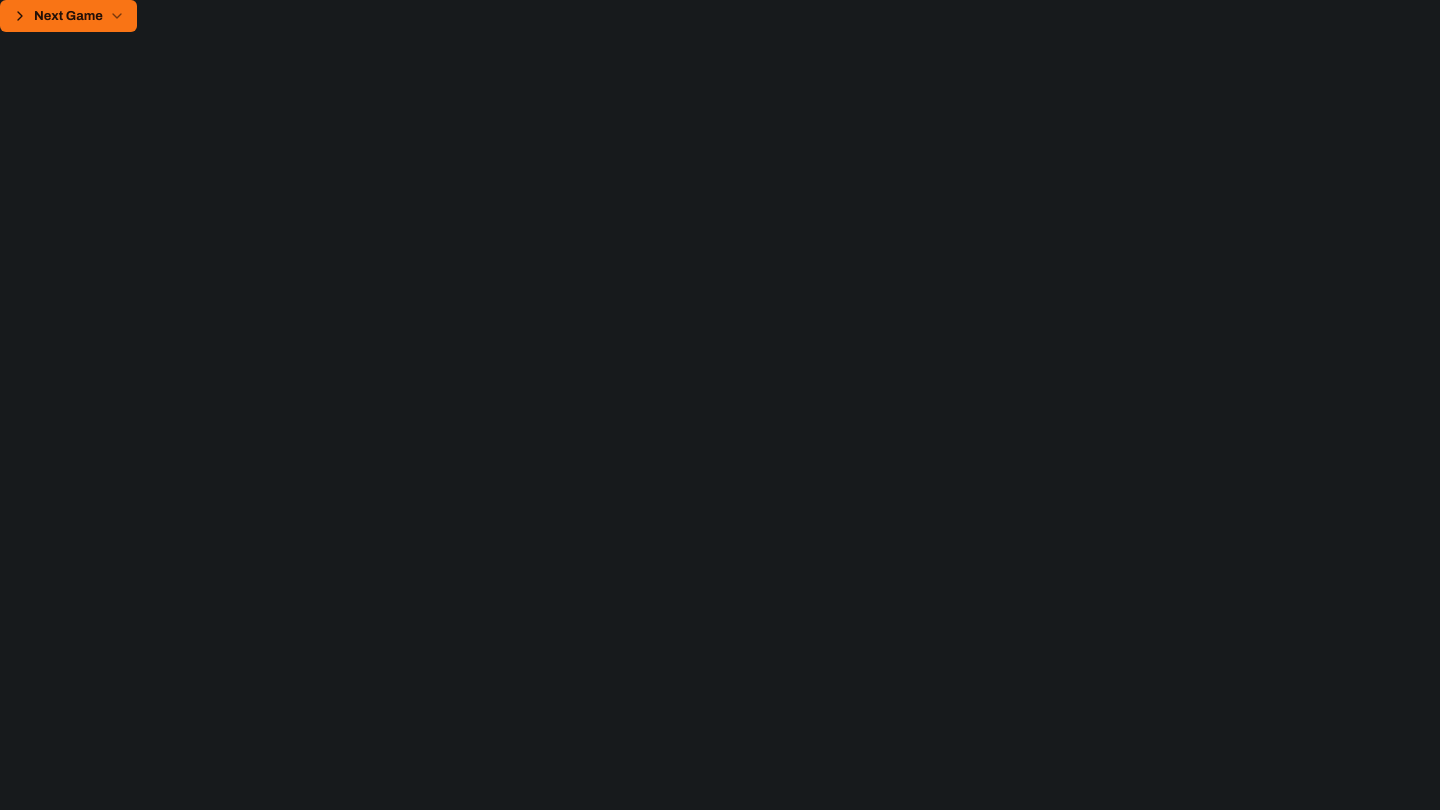
NextGameControl › points a FULL season at the next one, and labels an extra game honestly
Later steps or results of the test are not shown.
Click the button "Next Game" at (68,16), box [0, 0, 137, 32]
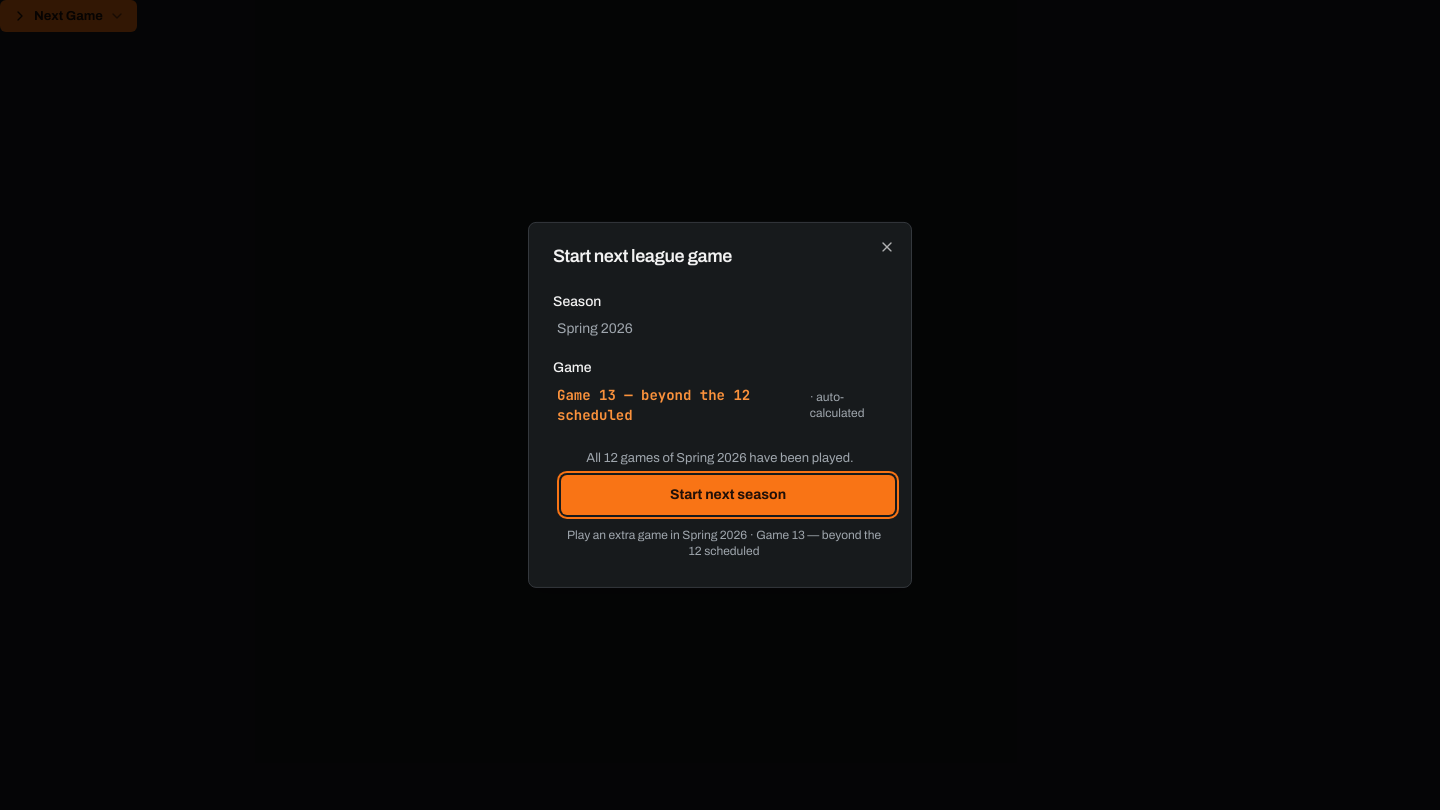
expect the button "Start next season" is shown: met, box [561, 475, 895, 515]
expect the button "Play an extra game in Spring 2026" shows "Game 13 — beyond the 12 scheduled": met, box [561, 523, 887, 563]
